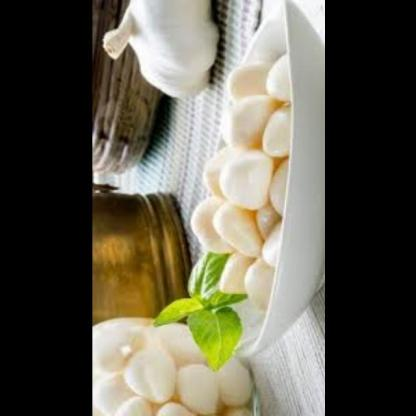garlic: (186, 32, 304, 299), (90, 323, 262, 416), (96, 1, 218, 102)
